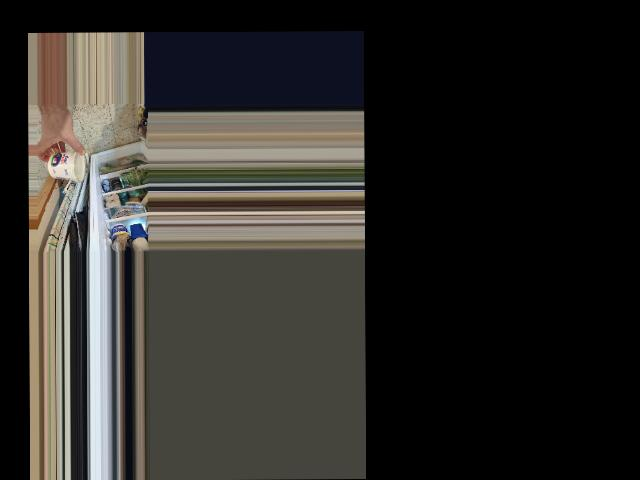cotage: (46, 150, 86, 181)
